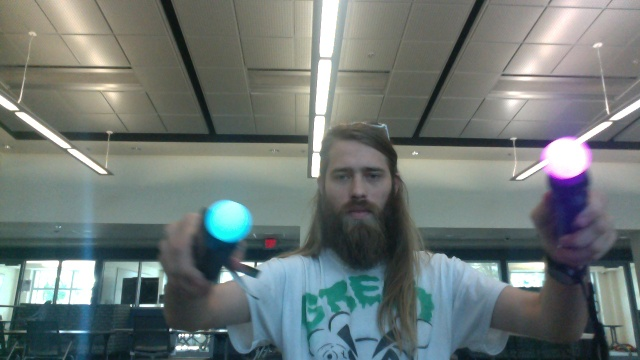wand: (540, 138, 591, 179), (206, 200, 253, 241)
